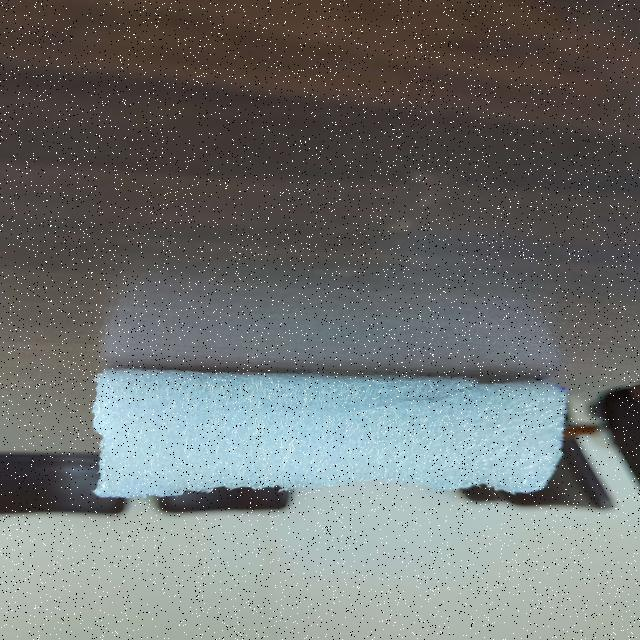engine: (80, 370, 570, 497)
